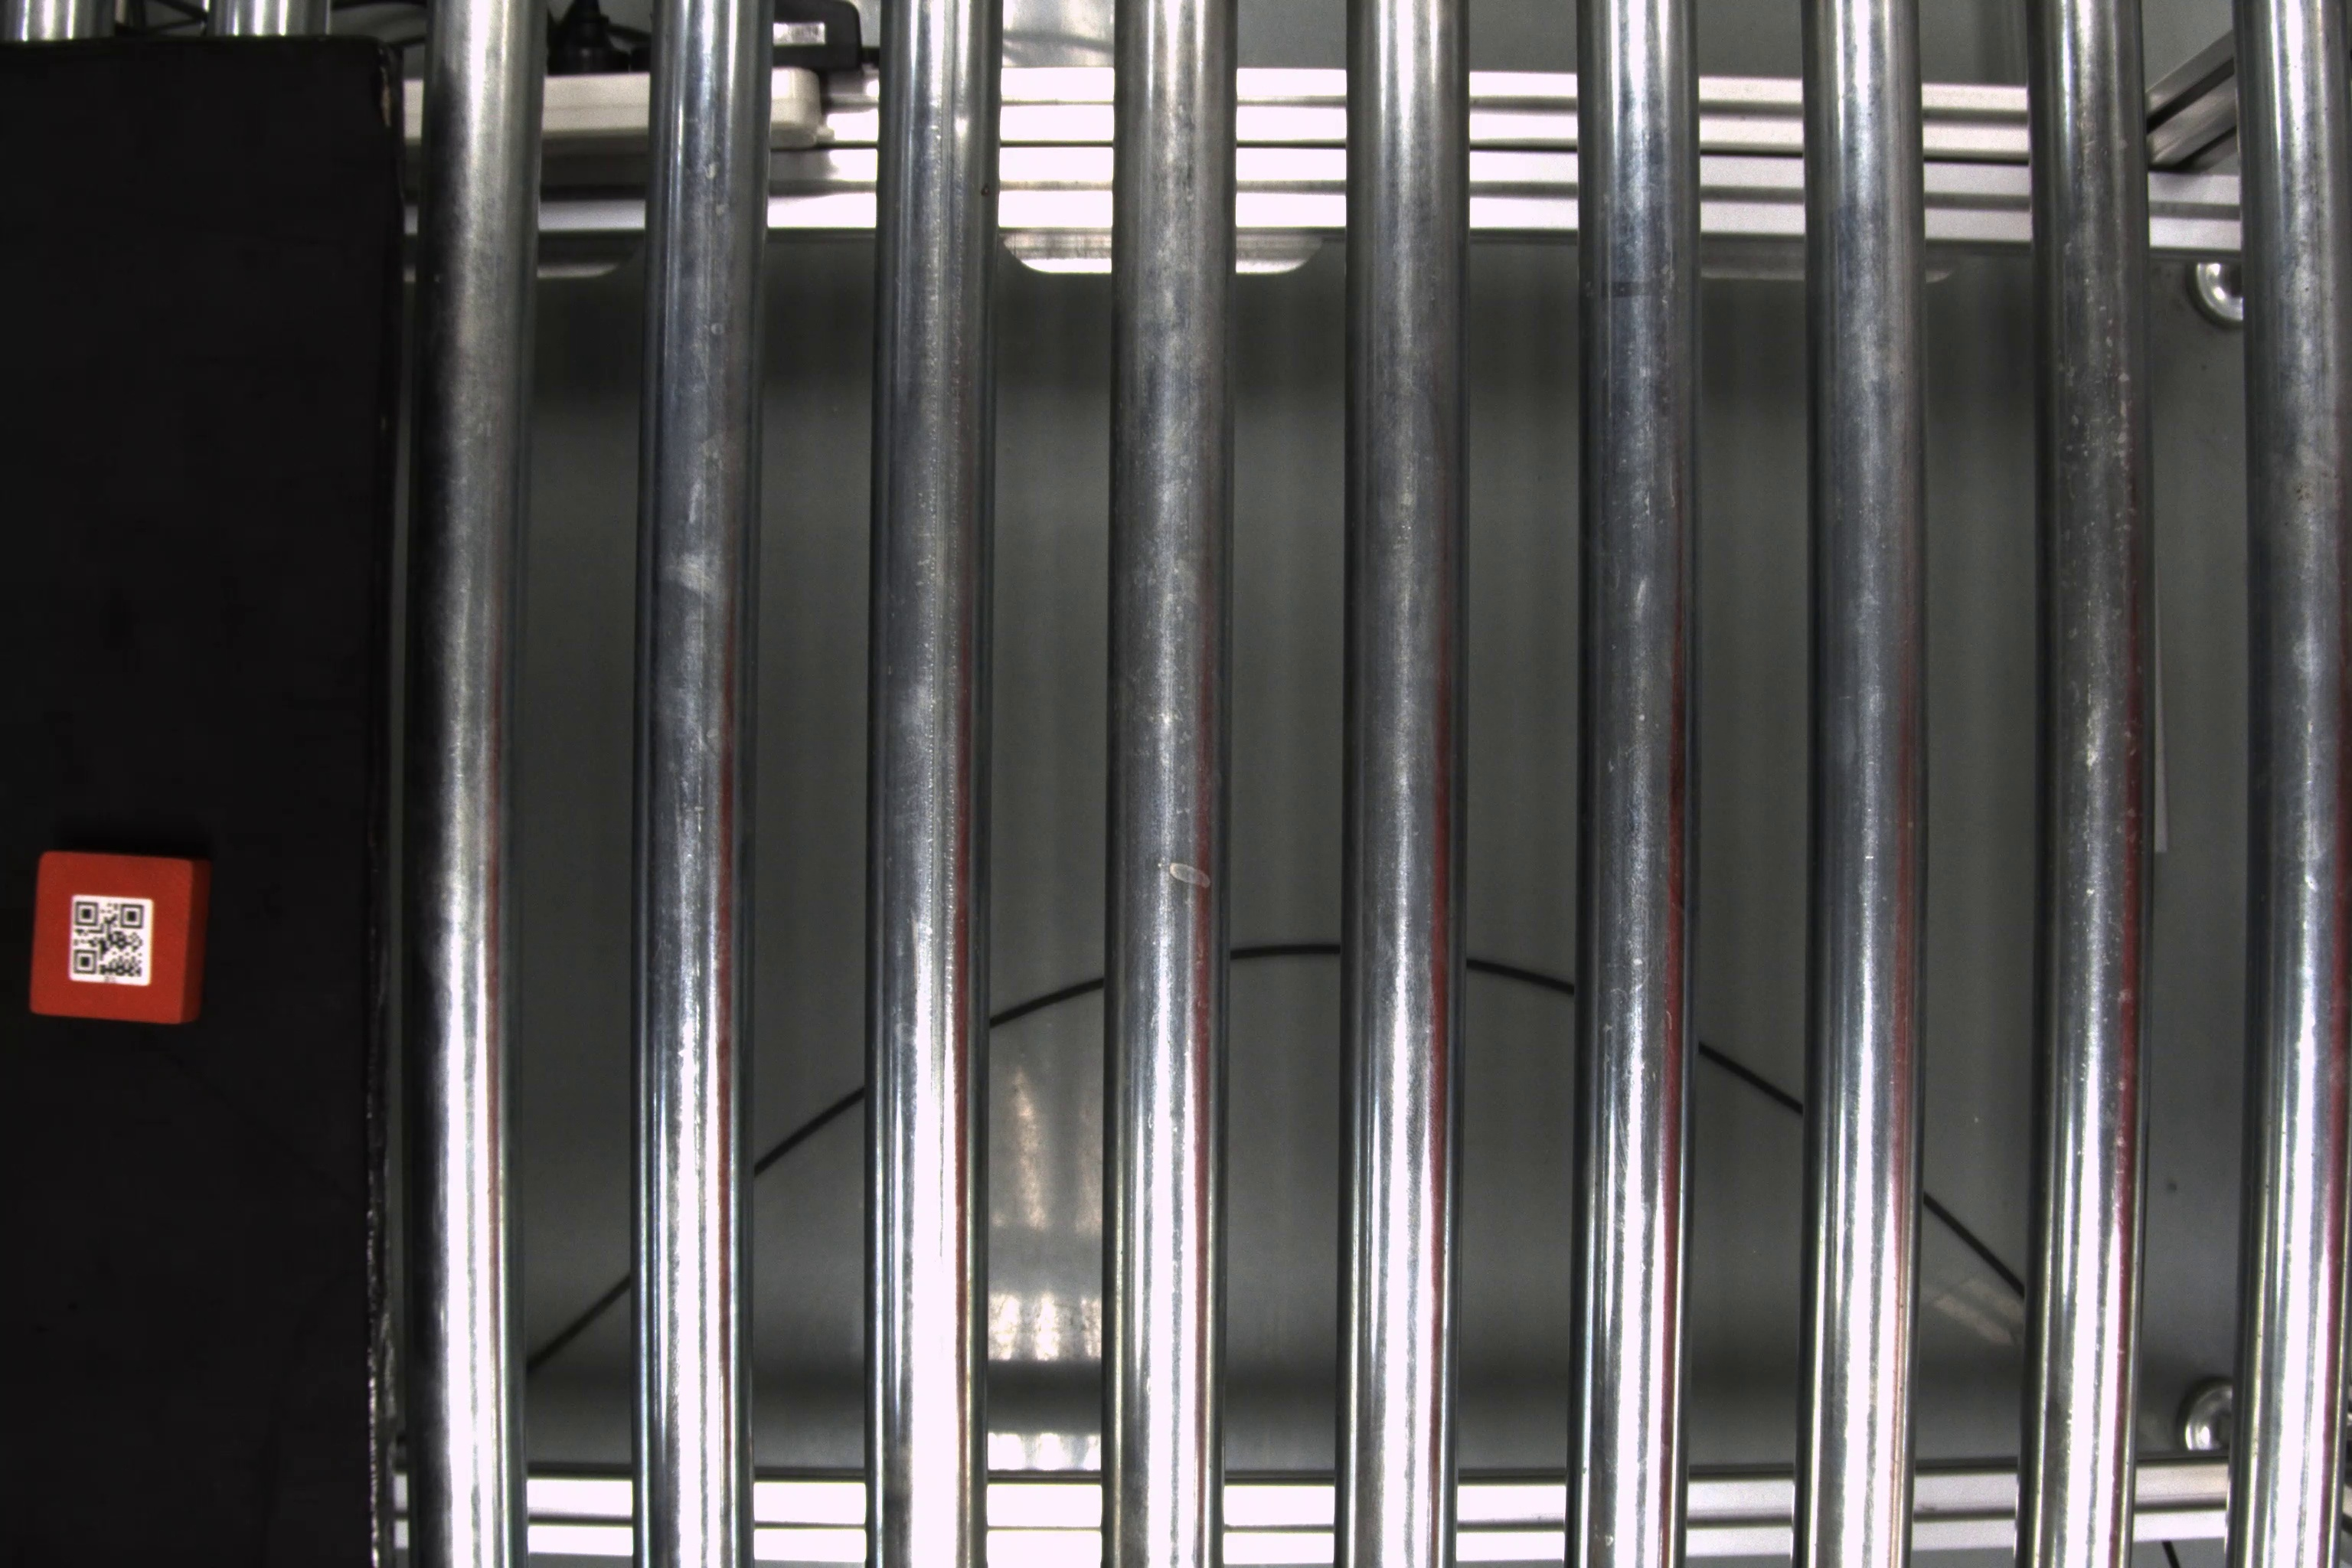wood: (28, 842, 212, 1029)
